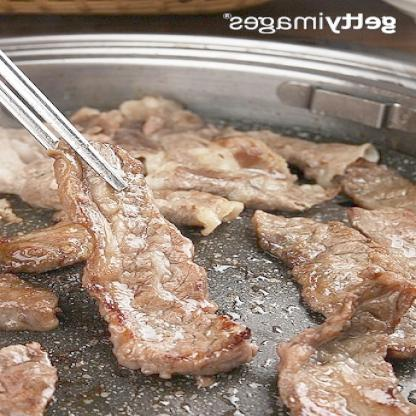Carne: (49, 140, 238, 381), (281, 264, 415, 415), (262, 206, 391, 320), (336, 160, 416, 257), (1, 344, 63, 415), (229, 164, 336, 203), (1, 266, 53, 331)
